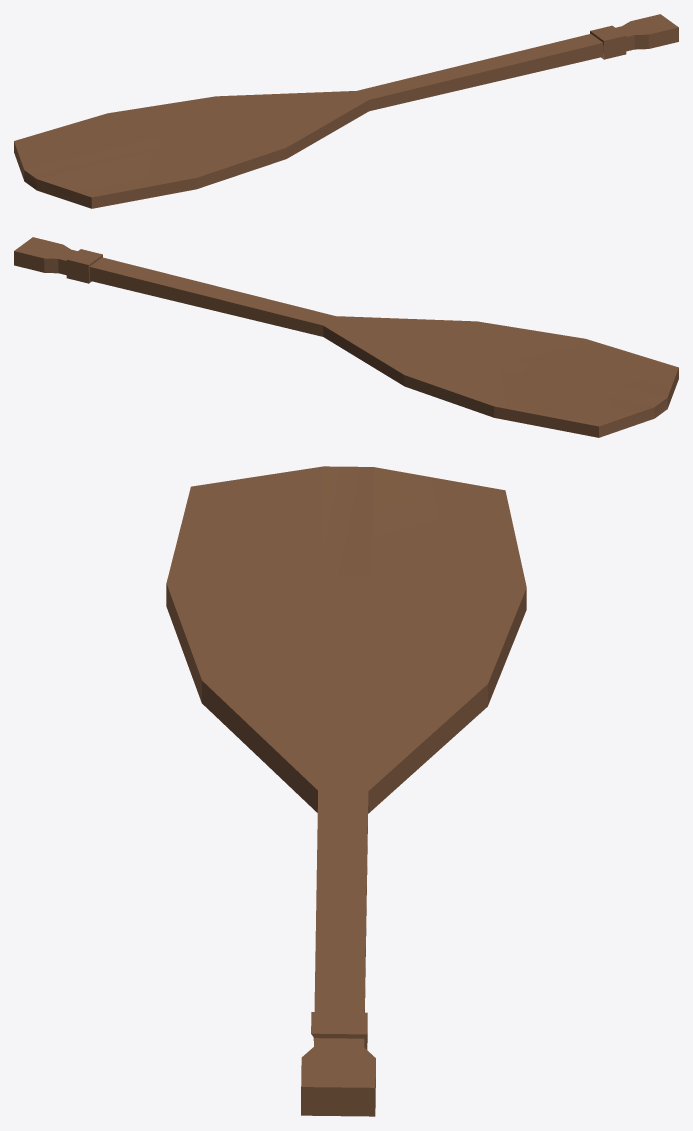
The model's file is Dayung.fbx.
The picture shows the model from 3 angles, top to bottom: view 1: azimuth 30°, elevation 25°; view 2: azimuth 150°, elevation 25°; view 3: azimuth 270°, elevation 25°; orthographic projection. The views are drawn at different scales.
Parts seen in each view (by area): view 1: Paddle_10; view 2: Paddle_10; view 3: Paddle_10.
Part boxes in pixels (x1,y1,x2,y2): Paddle_10: [14, 14, 678, 208]; Paddle_10: [14, 237, 678, 437]; Paddle_10: [166, 466, 526, 1116].
Size of the model in its own units: 2919 by 82.72 by 716.
